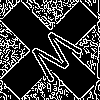W: (25, 25, 91, 91)
